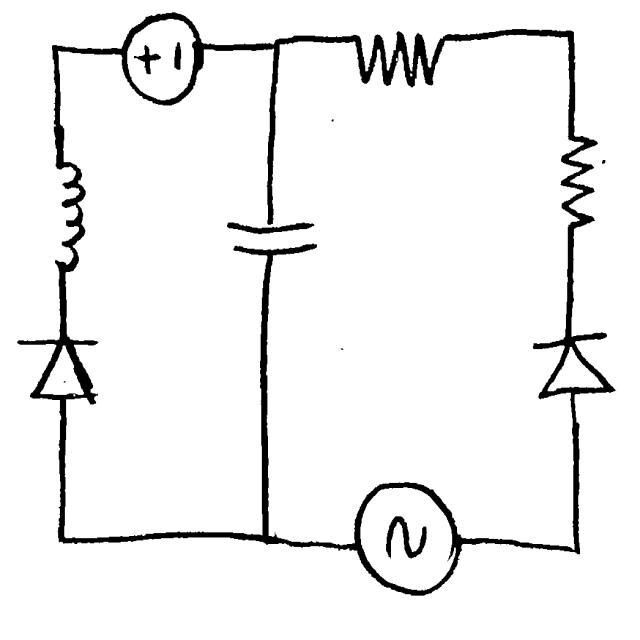ac: (347, 473, 471, 608)
capacitor: (215, 204, 325, 272)
dc: (112, 6, 214, 117)
diode: (521, 314, 621, 415), (10, 331, 111, 423)
inductor: (35, 144, 98, 287)
resistor: (341, 15, 458, 99), (542, 112, 612, 247)
